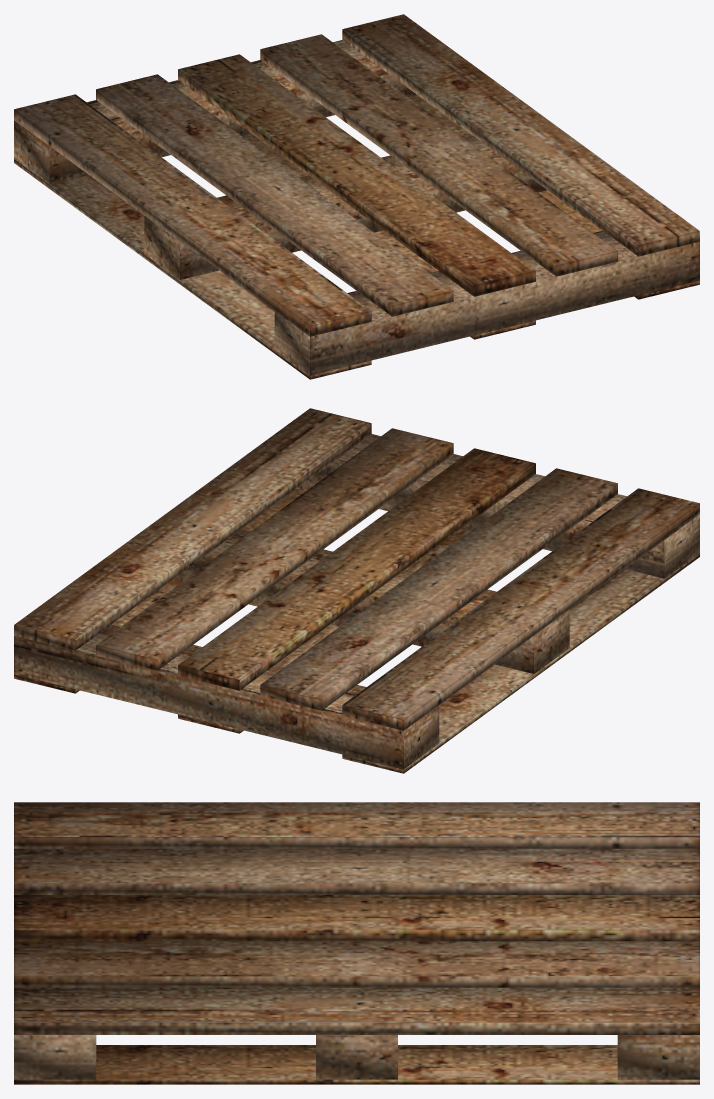
The model's file is pallet.glb.
The picture shows the model from 3 angles, top to bottom: view 1: azimuth 30°, elevation 25°; view 2: azimuth 150°, elevation 25°; view 3: azimuth 270°, elevation 25°; orthographic projection. The views are drawn at different scales.
Parts seen in each view (by area): view 1: Pallet; view 2: Pallet; view 3: Pallet.
Part boxes in pixels (x1,y1,x2,y2): Pallet: (14,14,699,379); Pallet: (14,408,699,773); Pallet: (14,802,699,1084).
Bounding box in the file's own units: 0.95 × 0.125 × 1.25.
1 material, 1 textured.
